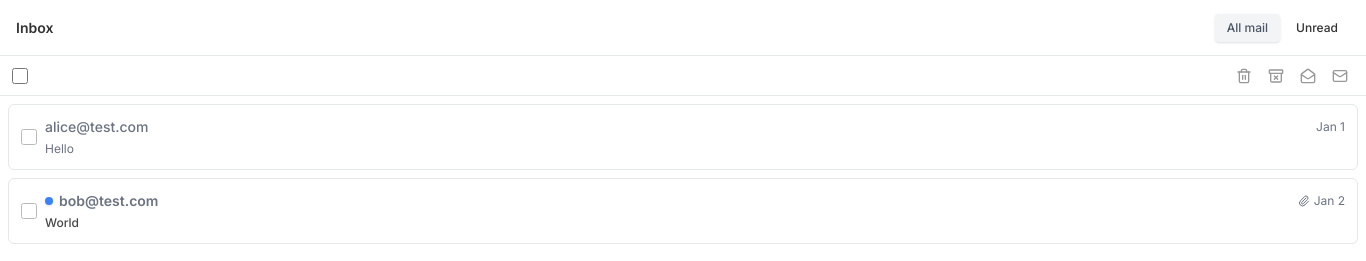
MessageList — bulk action toolbar › select all checkbox selects all displayed messages
The width and height of the screenshot is (1366, 261).
Click the checkbox with test id "select-all-checkbox". click: (20, 76)
box: [12,68,28,84]
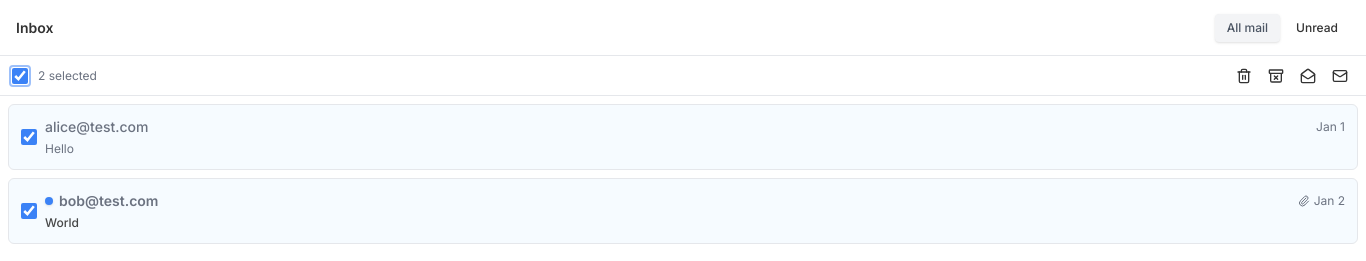
Expected: the text with test id "selection-count" reads "2 selected", [38,68,97,84]
